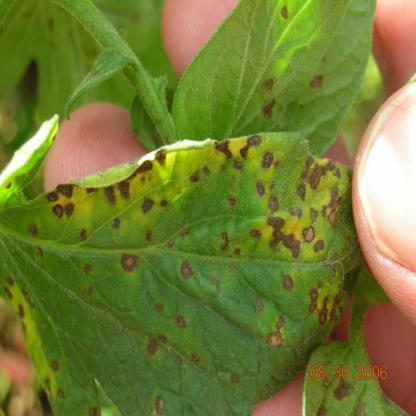bell pepper leaf spot: (11, 143, 358, 402)
